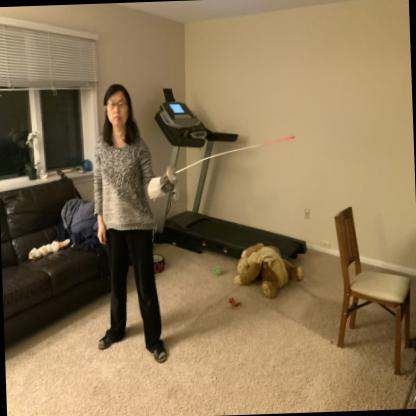foil-tip: (286, 129, 298, 150)
hand-and-foil: (146, 128, 308, 200)
